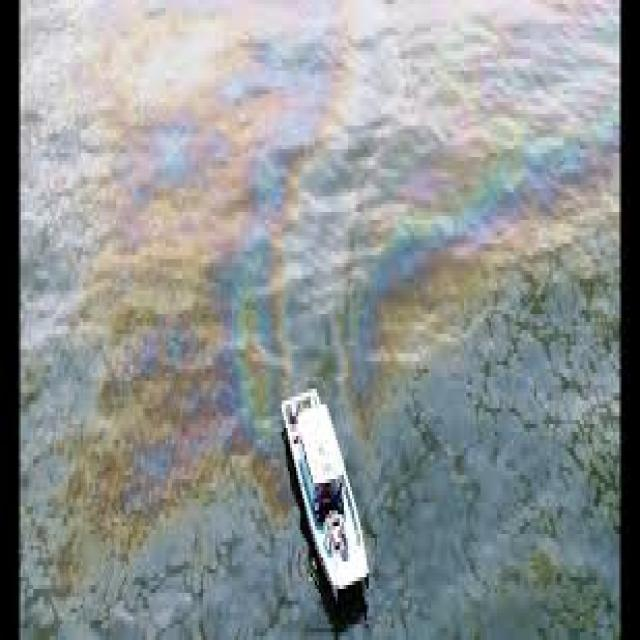rainbow: (81, 0, 618, 553)
